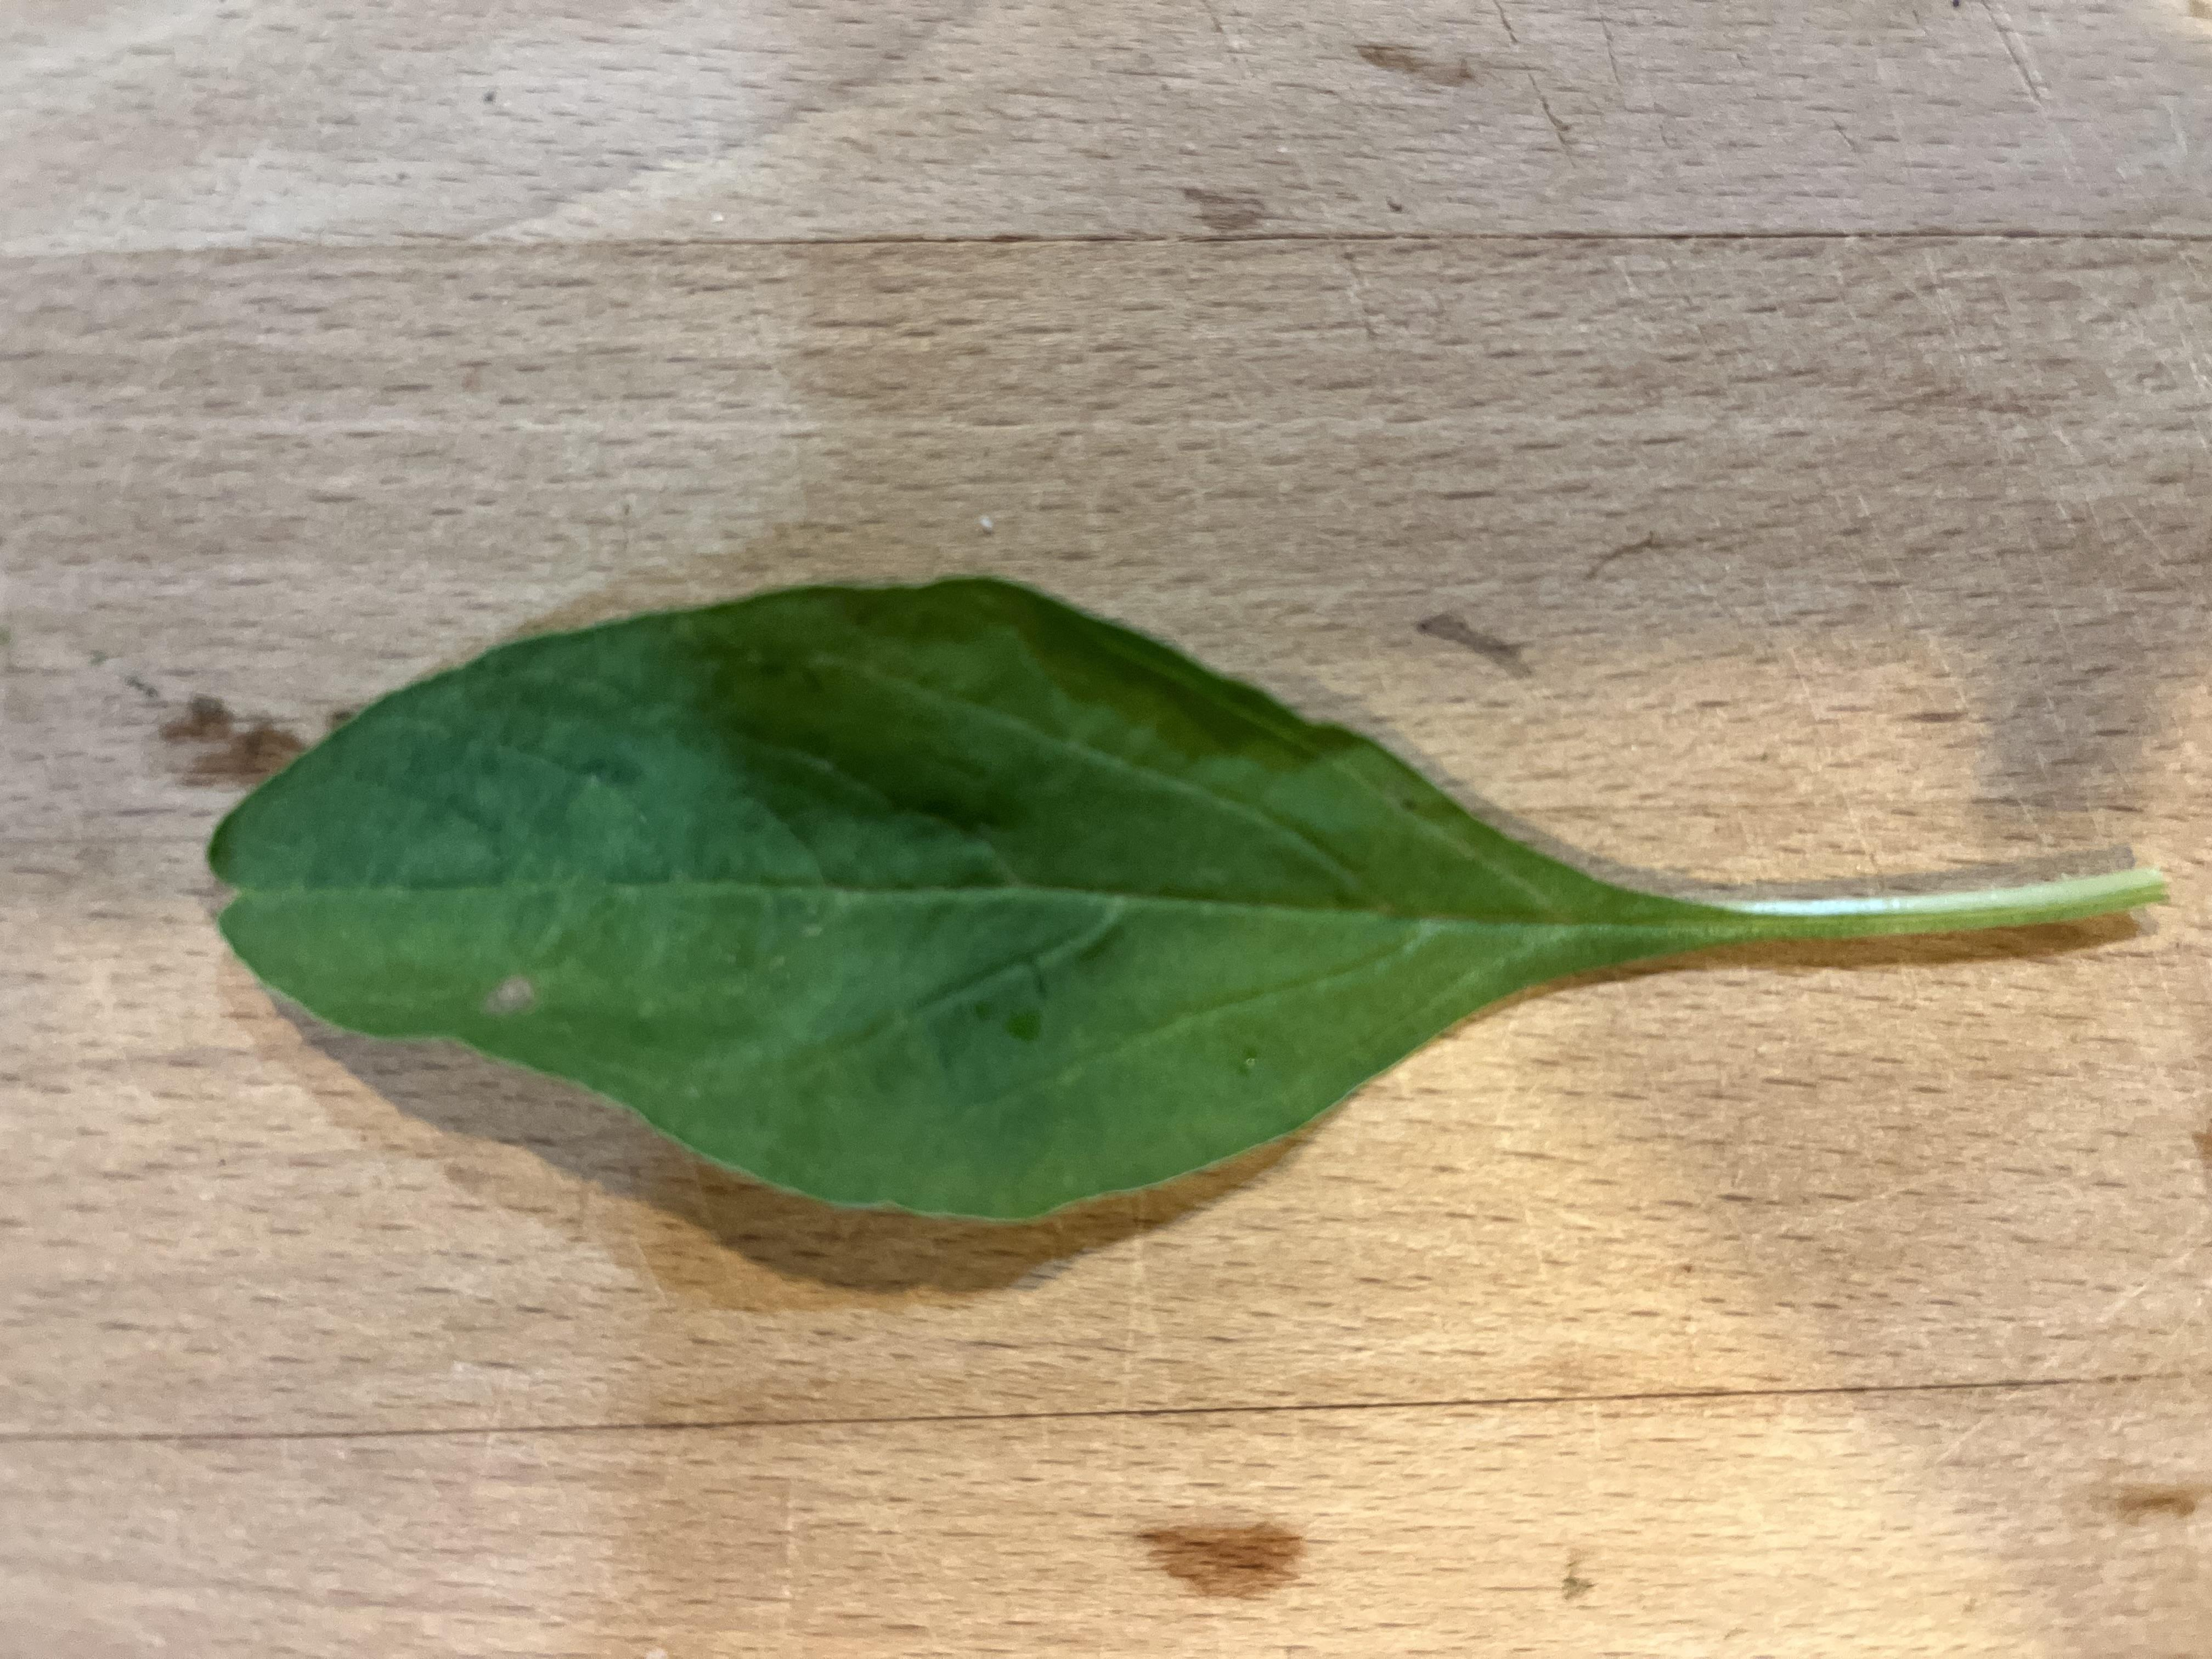Healthy-Pechay: (153, 383, 2118, 1394)
